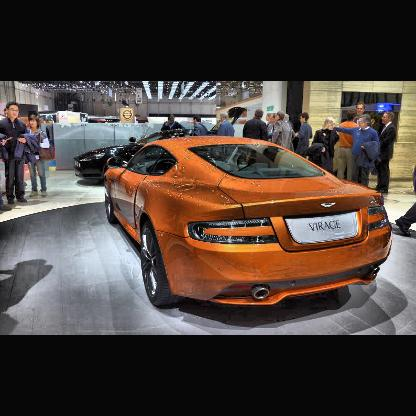Aston Martin Virage Coupe 2012: (104, 135, 397, 315)
